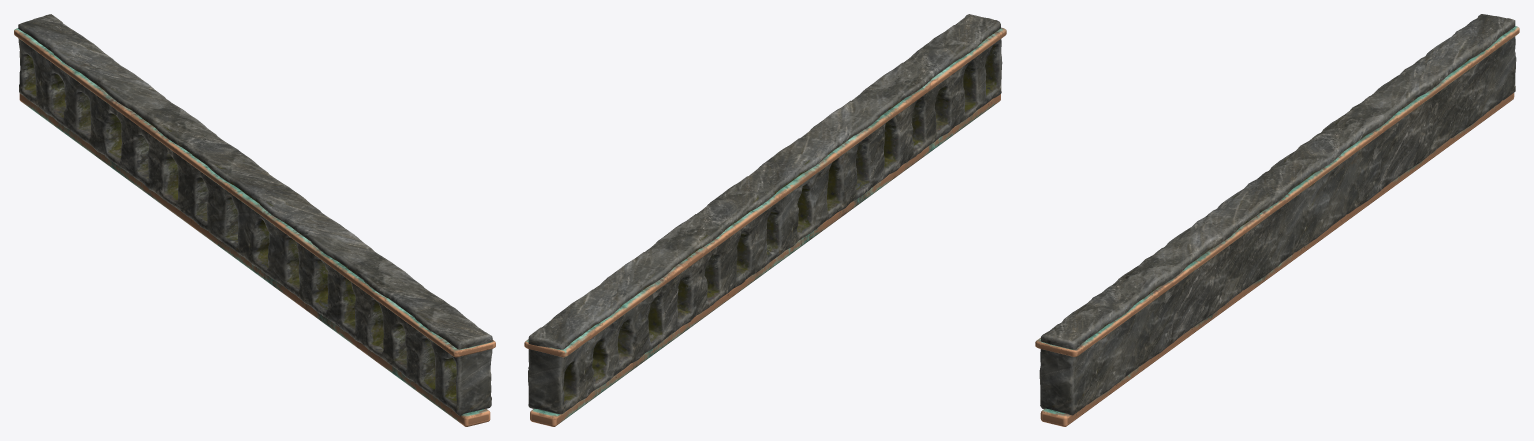
File: SM_StonePattern_H.fbx
The picture shows the model from 3 angles, left to right: view 1: azimuth 30°, elevation 25°; view 2: azimuth 150°, elevation 25°; view 3: azimuth 330°, elevation 25°; orthographic projection.
Parts seen in each view (by area): view 1: SM_StonePattern_H_LOD0; view 2: SM_StonePattern_H_LOD0; view 3: SM_StonePattern_H_LOD0.
Boxes of the visible parts, bbox=[...] form: SM_StonePattern_H_LOD0: bbox=[14, 14, 495, 426]; SM_StonePattern_H_LOD0: bbox=[524, 14, 1006, 426]; SM_StonePattern_H_LOD0: bbox=[1035, 14, 1519, 426].
Bounding box in the file's own units: 94.98 × 1731 × 181.
